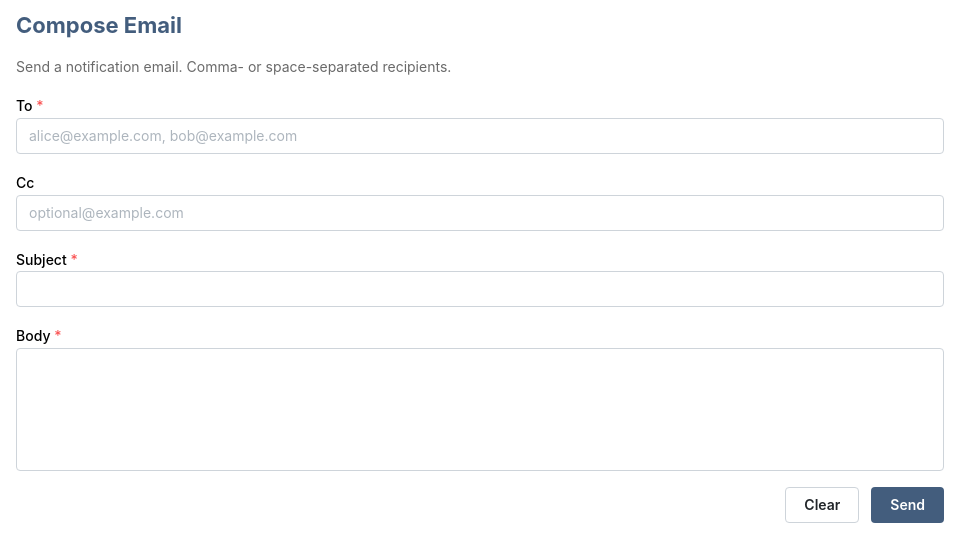
ComposeEmailPage › Clear button resets dirty inputs
Type "a@b.com" into the field labelled "To *".
click(480, 136); type("a@b.com")  # box left=16, top=118, right=944, bottom=154
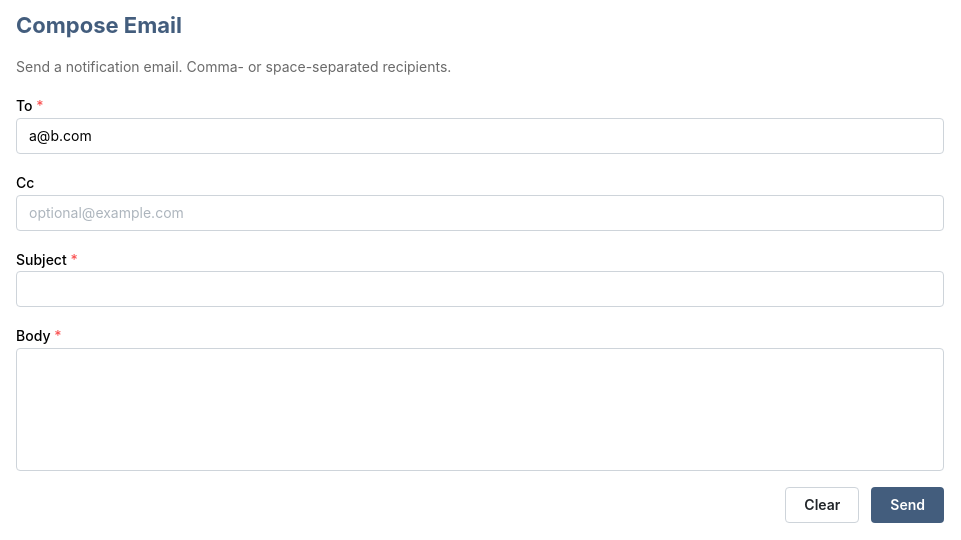
Click the button "Clear".
click(822, 505)  # box left=785, top=487, right=859, bottom=523
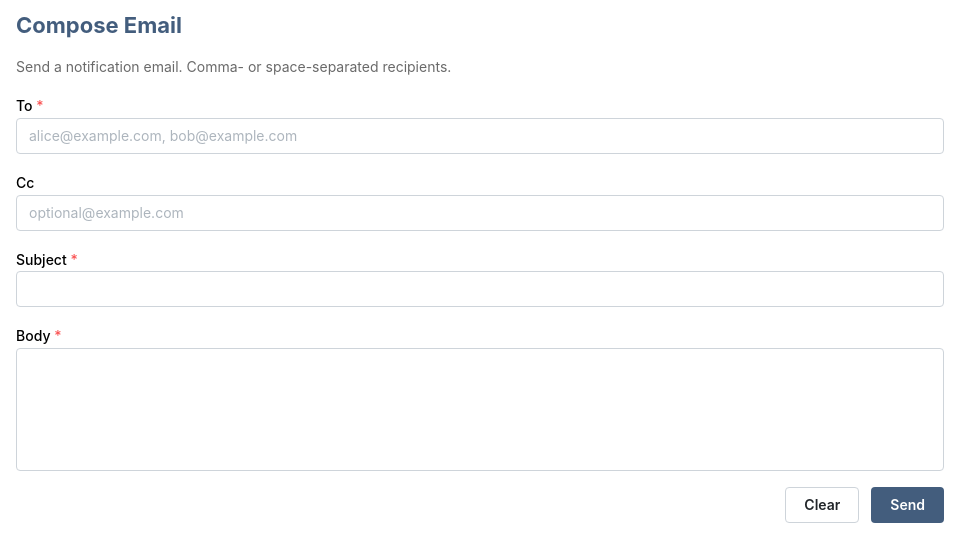
Result: the field labelled "To *" is empty at left=16, top=118, right=944, bottom=154
